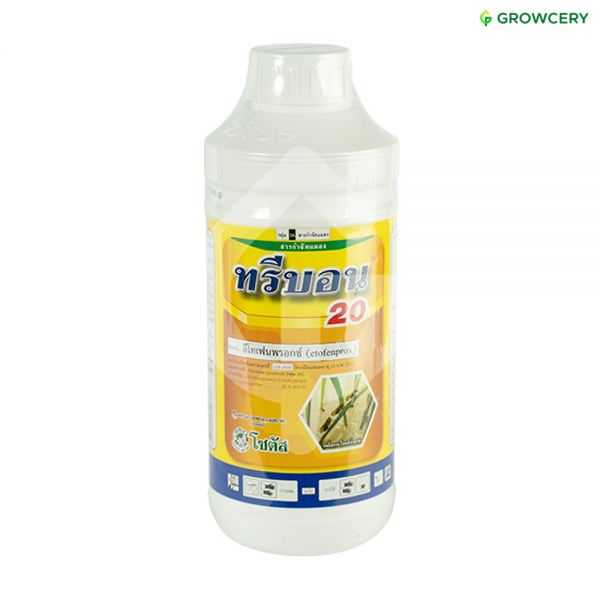Insecticide: (201, 34, 400, 562)
